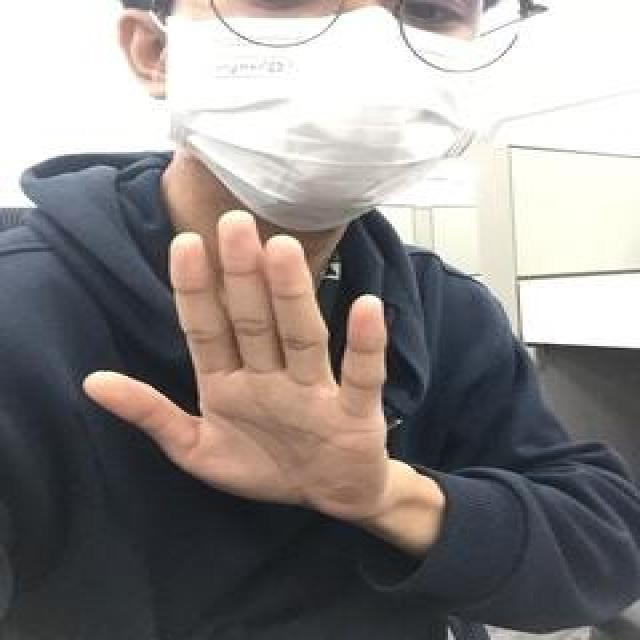no-gloves: (80, 210, 398, 518)
